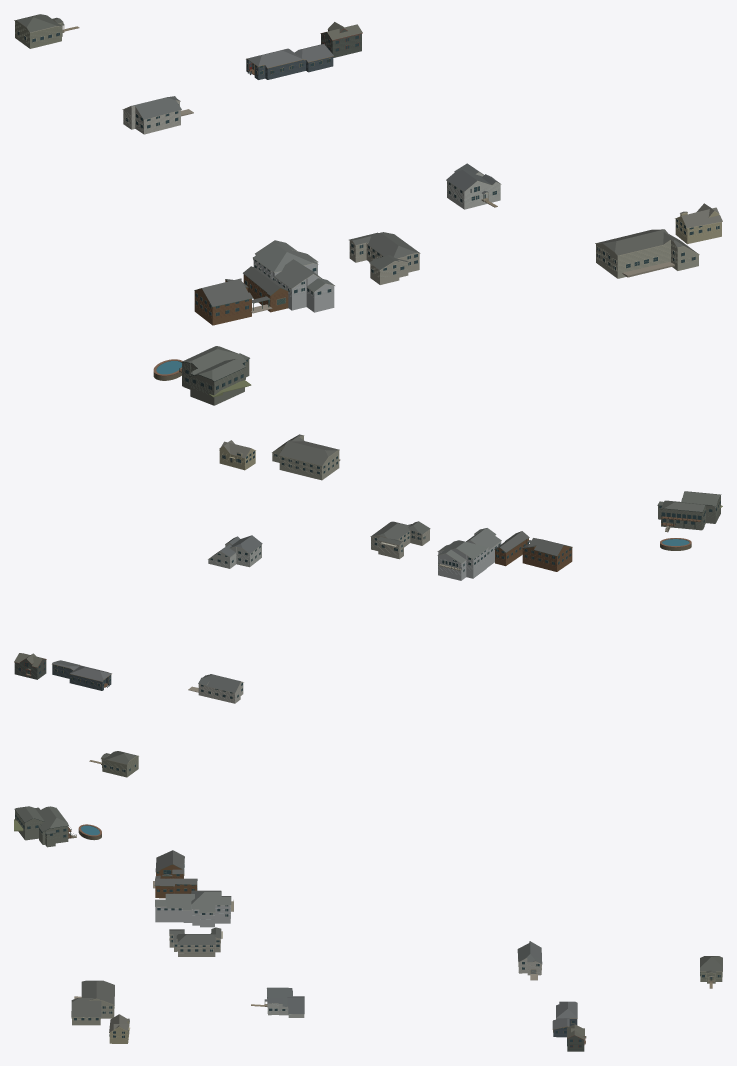
File: site.glb
3 renders of one model, top to bottom at view 1: azimuth 30°, elevation 25°; view 2: azimuth 150°, elevation 25°; view 3: azimuth 270°, elevation 25°, orthographic. The views are drawn at different scales.
Visible parts, largest first — view 1: roof-b62a90ef, roof-136be56b, roof-daca02ed, roof-d5a8b80c, roof-5245ef5e, roof-100b2613, roof-f6bcefaf, roof-6a4f93e6, fairmount-2241, roof-b8fa3497, east19-1836, fairmount-moss-slope-approaches; view 2: roof-b62a90ef, roof-daca02ed, roof-d5a8b80c, roof-136be56b, roof-5245ef5e, roof-f6bcefaf, roof-100b2613, roof-6a4f93e6, fairmount-2241, roof-b8fa3497, east19-1836; view 3: roof-daca02ed, roof-b62a90ef, roof-d5a8b80c, roof-136be56b, roof-5245ef5e, roof-f6bcefaf, roof-100b2613, roof-6a4f93e6, roof-b8fa3497, fairmount-2241, east19-1836.
Boxes of the visible parts, bbox=[...] form: roof-b62a90ef: bbox=[153, 346, 249, 405]; roof-136be56b: bbox=[194, 266, 289, 325]; roof-daca02ed: bbox=[253, 240, 334, 312]; roof-d5a8b80c: bbox=[595, 229, 699, 278]; roof-5245ef5e: bbox=[349, 232, 420, 284]; roof-100b2613: bbox=[246, 44, 333, 79]; roof-f6bcefaf: bbox=[446, 163, 501, 209]; roof-6a4f93e6: bbox=[122, 96, 181, 134]; fairmount-2241: bbox=[675, 203, 722, 244]; roof-b8fa3497: bbox=[14, 14, 64, 48]; east19-1836: bbox=[320, 22, 362, 57]; fairmount-moss-slope-approaches: bbox=[63, 26, 674, 397]; roof-b62a90ef: bbox=[657, 491, 721, 550]; roof-daca02ed: bbox=[437, 528, 501, 580]; roof-d5a8b80c: bbox=[272, 434, 339, 480]; roof-136be56b: bbox=[494, 531, 572, 571]; roof-5245ef5e: bbox=[370, 521, 430, 559]; roof-f6bcefaf: bbox=[208, 535, 262, 568]; roof-100b2613: bbox=[52, 660, 111, 690]; roof-6a4f93e6: bbox=[198, 674, 243, 703]; fairmount-2241: bbox=[219, 440, 255, 470]; roof-b8fa3497: bbox=[101, 751, 138, 777]; east19-1836: bbox=[14, 653, 46, 679]; roof-daca02ed: bbox=[155, 890, 233, 927]; roof-b62a90ef: bbox=[14, 806, 101, 847]; roof-d5a8b80c: bbox=[71, 980, 114, 1025]; roof-136be56b: bbox=[154, 850, 197, 898]; roof-5245ef5e: bbox=[169, 927, 222, 956]; roof-f6bcefaf: bbox=[264, 987, 304, 1017]; roof-100b2613: bbox=[552, 1001, 577, 1037]; roof-6a4f93e6: bbox=[517, 941, 542, 975]; roof-b8fa3497: bbox=[700, 956, 722, 983]; fairmount-2241: bbox=[109, 1014, 129, 1043]; east19-1836: bbox=[567, 1024, 586, 1051].
Bounding box in the file's own units: 224 × 31.76 × 323.
